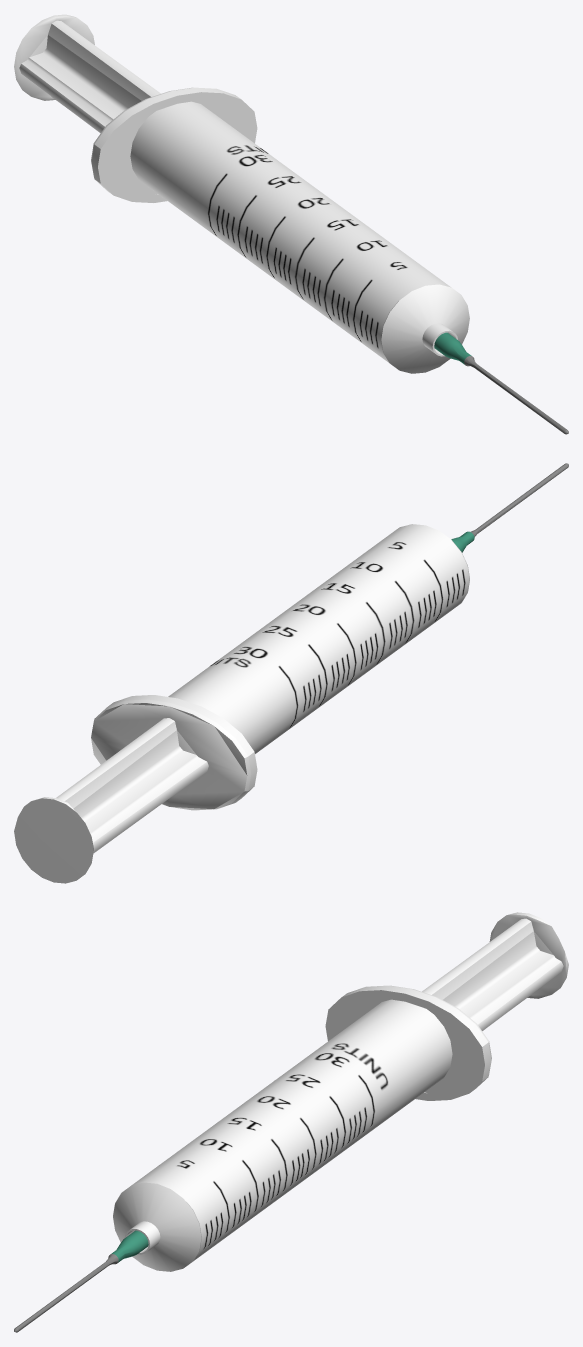
The model's file is pin.FBX.
3 views of the same model, one above another, from view 1: azimuth 30°, elevation 25°; view 2: azimuth 150°, elevation 25°; view 3: azimuth 330°, elevation 25° (orthographic).
Visible parts, largest first — view 1: syringe_v2; view 2: syringe_v2; view 3: syringe_v2.
Part boxes in pixels (bbox=[...]): syringe_v2: bbox=[14, 14, 568, 434]; syringe_v2: bbox=[14, 463, 568, 883]; syringe_v2: bbox=[14, 912, 568, 1332].
Bounding box in the file's own units: 3.21 × 1.99 × 17.93.
Materials: 1 (1 with a texture image).
